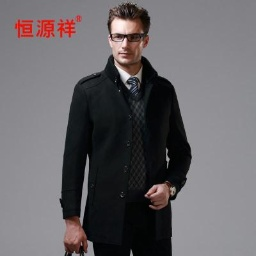face: (107, 1, 151, 66)
